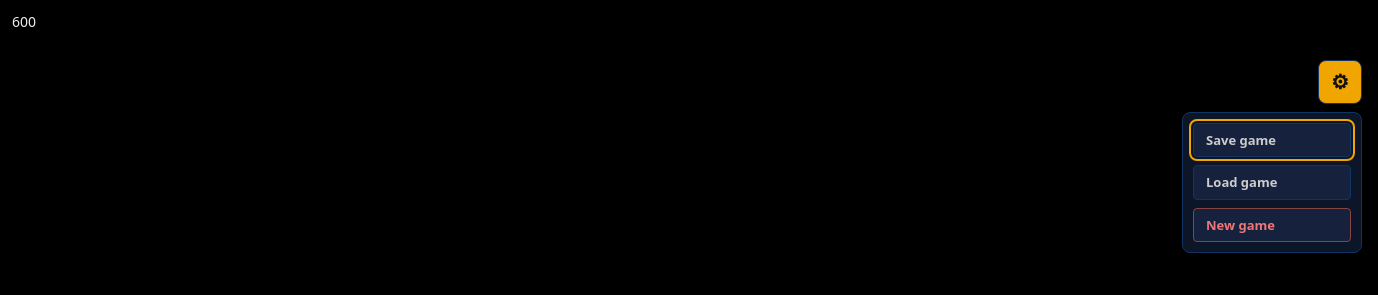
Scenario: replacement navigation save boundary › leaves the current game intact when Settings loads an incompatible saved game
The image size is (1378, 295).
Click the button "Load game" at (1272, 182), box [1193,165,1351,200]
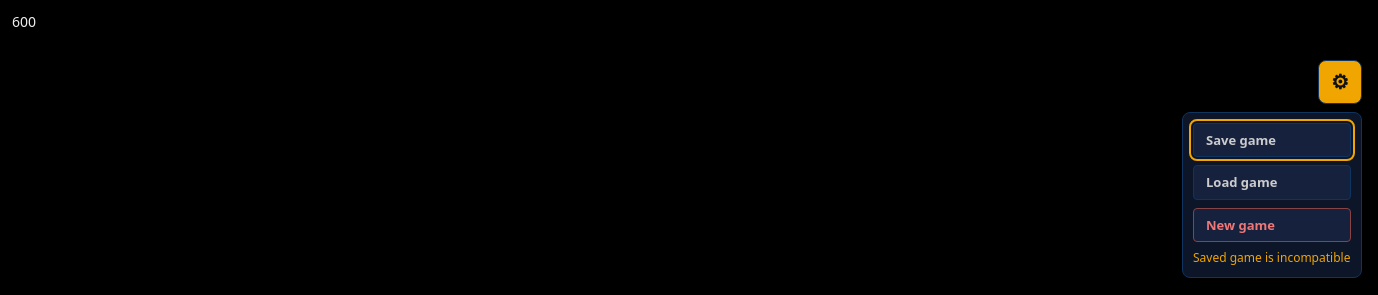
Expected: the text with test id "funds" reads "600", [12,12,36,31]
Result: the text "Saved game is incompatible" is shown at [1193,250,1351,267]
